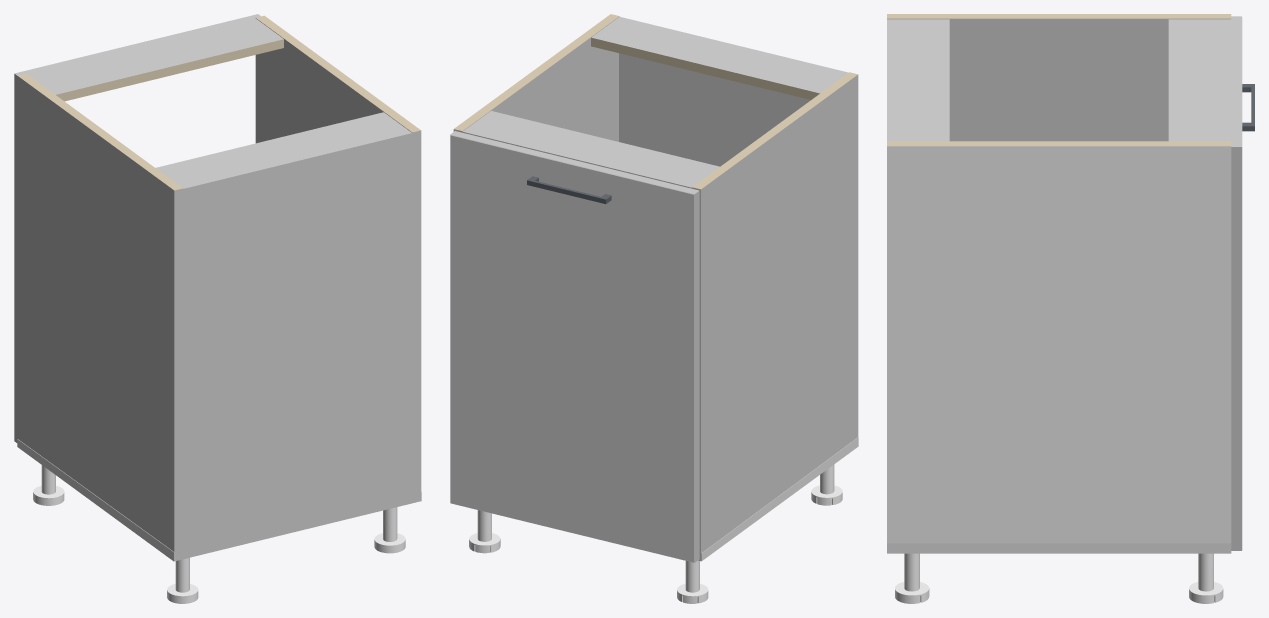
3 renders of one model, left to right at view 1: azimuth 30°, elevation 25°; view 2: azimuth 150°, elevation 25°; view 3: azimuth 270°, elevation 25°, orthographic. The views are drawn at different scales.
Visible parts, largest first — view 1: Model; view 2: Model; view 3: Model.
Boxes of the visible parts, x1,y1,x2,y2 form: Model: (14, 14, 421, 603); Model: (450, 14, 858, 603); Model: (887, 14, 1254, 603).
Size of the model in its own units: 502 by 813 by 588.
